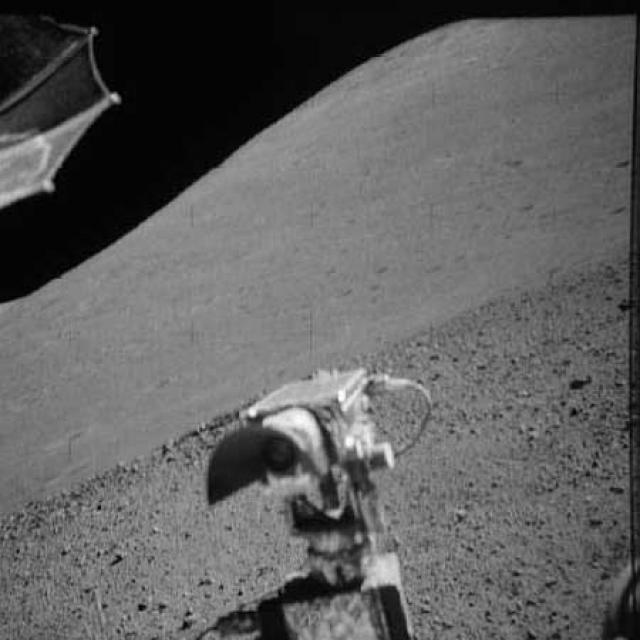artifact: (203, 365, 439, 639), (2, 0, 139, 223)
